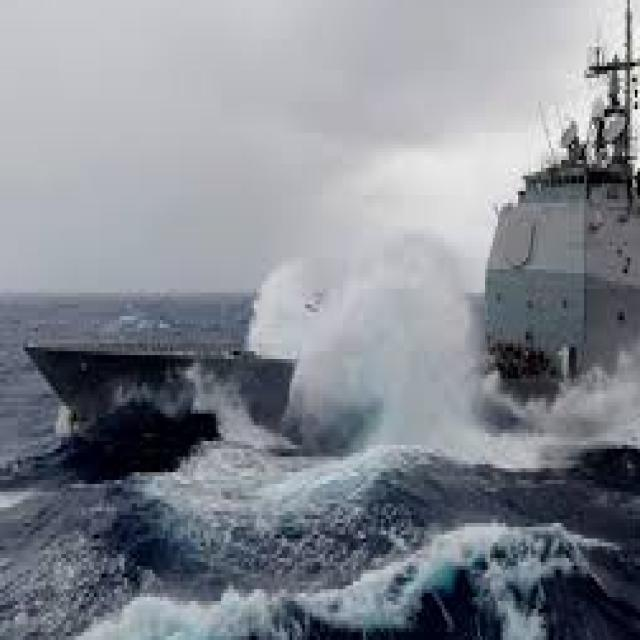navalvessels: (28, 0, 640, 476)
